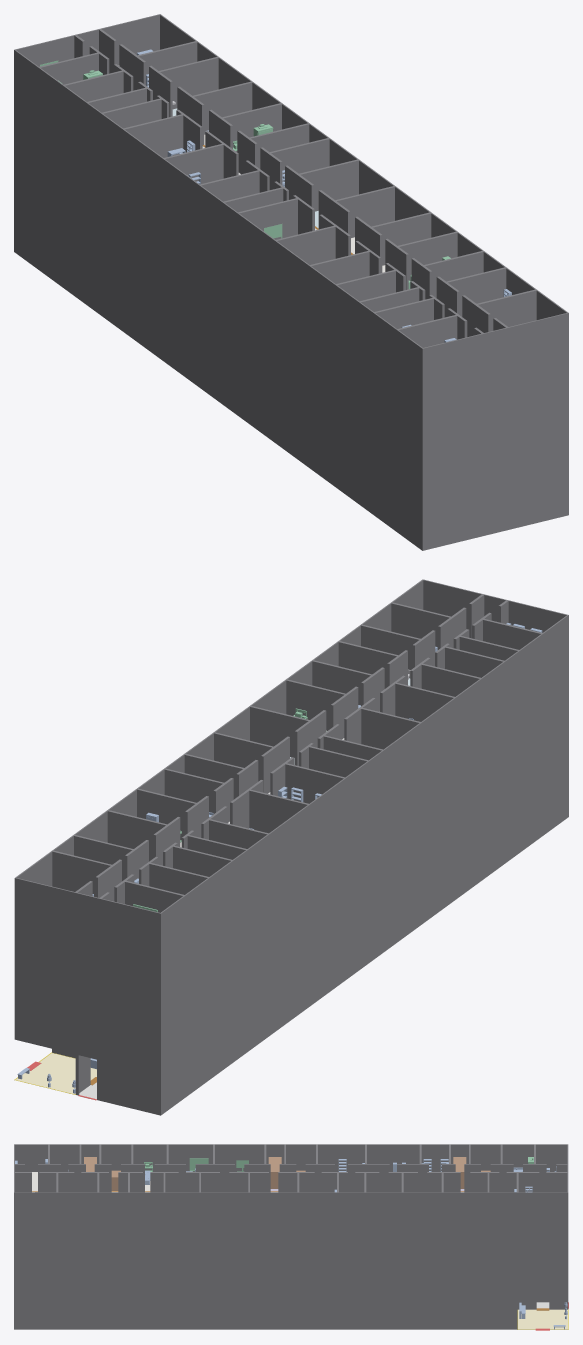
3 views of the same model, one above another, from view 1: azimuth 30°, elevation 25°; view 2: azimuth 150°, elevation 25°; view 3: azimuth 270°, elevation 25° (orthographic). The views are drawn at different scales.
Visible parts, largest first — view 1: walls:proc-campus-dev-000-F4-S001, walls:proc-campus-dev-000-F4-S017, walls:proc-campus-dev-000-F4-S031, walls:proc-campus-dev-000-F4-S007, walls:proc-campus-dev-000-F3-S017, walls:proc-campus-dev-000-F1-S017, walls:proc-campus-dev-000-F2-S017, walls:proc-campus-dev-000-F0-S017, walls:proc-campus-dev-000-F4-S011, walls:proc-campus-dev-000-F4-S008, walls:proc-campus-dev-000-F4-S012, walls:proc-campus-dev-000-F4-S013 (+79 smaller); view 2: walls:proc-campus-dev-000-F4-S001, walls:proc-campus-dev-000-F4-S002, walls:proc-campus-dev-000-F4-S018, walls:proc-campus-dev-000-F4-S007, walls:proc-campus-dev-000-F4-S011, walls:proc-campus-dev-000-F1-S002, walls:proc-campus-dev-000-F3-S002, walls:proc-campus-dev-000-F0-S002, walls:proc-campus-dev-000-F2-S002, walls:proc-campus-dev-000-F4-S012, walls:proc-campus-dev-000-F4-S008, walls:proc-campus-dev-000-F4-S013 (+79 smaller); view 3: walls:proc-campus-dev-000-F4-S001, walls:proc-campus-dev-000-F0-S027, walls:proc-campus-dev-000-F4-S018, walls:proc-campus-dev-000-F4-S025, walls:proc-campus-dev-000-F4-S026, walls:proc-campus-dev-000-F4-S020, walls:proc-campus-dev-000-F4-S031, walls:proc-campus-dev-000-F0-S028, walls:proc-campus-dev-000-F4-S030, walls:proc-campus-dev-000-F4-S024, walls:proc-campus-dev-000-F4-S021, walls:proc-campus-dev-000-F4-S022 (+75 smaller).
Part boxes in pixels (x1=…): walls:proc-campus-dev-000-F4-S001: x1=75, y1=29, x2=507, y2=373; walls:proc-campus-dev-000-F4-S017: x1=396, y1=315, x2=483, y2=389; walls:proc-campus-dev-000-F4-S031: x1=476, y1=290, x2=568, y2=368; walls:proc-campus-dev-000-F4-S007: x1=122, y1=114, x2=223, y2=198; walls:proc-campus-dev-000-F3-S017: x1=396, y1=370, x2=483, y2=429; walls:proc-campus-dev-000-F1-S017: x1=396, y1=451, x2=483, y2=510; walls:proc-campus-dev-000-F2-S017: x1=396, y1=411, x2=483, y2=469; walls:proc-campus-dev-000-F0-S017: x1=396, y1=492, x2=483, y2=550; walls:proc-campus-dev-000-F4-S011: x1=237, y1=198, x2=335, y2=280; walls:proc-campus-dev-000-F4-S008: x1=163, y1=144, x2=259, y2=225; walls:proc-campus-dev-000-F4-S012: x1=275, y1=226, x2=369, y2=305; walls:proc-campus-dev-000-F4-S013: x1=309, y1=251, x2=395, y2=324; walls:proc-campus-dev-000-F4-S001: x1=75, y1=594, x2=507, y2=938; walls:proc-campus-dev-000-F4-S002: x1=100, y1=881, x2=185, y2=953; walls:proc-campus-dev-000-F4-S018: x1=14, y1=851, x2=112, y2=933; walls:proc-campus-dev-000-F4-S007: x1=209, y1=790, x2=309, y2=874; walls:proc-campus-dev-000-F4-S011: x1=323, y1=708, x2=421, y2=790; walls:proc-campus-dev-000-F1-S002: x1=100, y1=1017, x2=185, y2=1075; walls:proc-campus-dev-000-F3-S002: x1=100, y1=936, x2=185, y2=994; walls:proc-campus-dev-000-F0-S002: x1=100, y1=1058, x2=185, y2=1115; walls:proc-campus-dev-000-F2-S002: x1=100, y1=977, x2=185, y2=1034; walls:proc-campus-dev-000-F4-S012: x1=361, y1=683, x2=455, y2=762; walls:proc-campus-dev-000-F4-S008: x1=249, y1=763, x2=345, y2=844; walls:proc-campus-dev-000-F4-S013: x1=395, y1=664, x2=481, y2=737; walls:proc-campus-dev-000-F4-S001: x1=14, y1=1164, x2=568, y2=1192; walls:proc-campus-dev-000-F0-S027: x1=129, y1=1302, x2=248, y2=1329; walls:proc-campus-dev-000-F4-S018: x1=517, y1=1172, x2=568, y2=1219; walls:proc-campus-dev-000-F4-S025: x1=249, y1=1172, x2=298, y2=1219; walls:proc-campus-dev-000-F4-S026: x1=200, y1=1172, x2=248, y2=1219; walls:proc-campus-dev-000-F4-S020: x1=442, y1=1172, x2=488, y2=1219; walls:proc-campus-dev-000-F4-S031: x1=14, y1=1172, x2=57, y2=1219; walls:proc-campus-dev-000-F0-S028: x1=298, y1=1302, x2=365, y2=1329; walls:proc-campus-dev-000-F4-S030: x1=57, y1=1172, x2=98, y2=1219; walls:proc-campus-dev-000-F4-S024: x1=298, y1=1172, x2=337, y2=1219; walls:proc-campus-dev-000-F4-S021: x1=402, y1=1172, x2=442, y2=1219; walls:proc-campus-dev-000-F4-S022: x1=365, y1=1172, x2=402, y2=1219.
Size of the model in its own units: 14.7 by 19 by 69.7.
